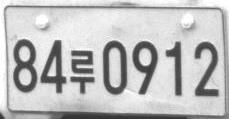0: (102, 39, 127, 95)
1: (163, 40, 190, 96)
2: (193, 40, 219, 97)
4: (39, 39, 66, 94)
8: (12, 38, 38, 93)
9: (131, 40, 158, 95)
루: (70, 50, 94, 94)
